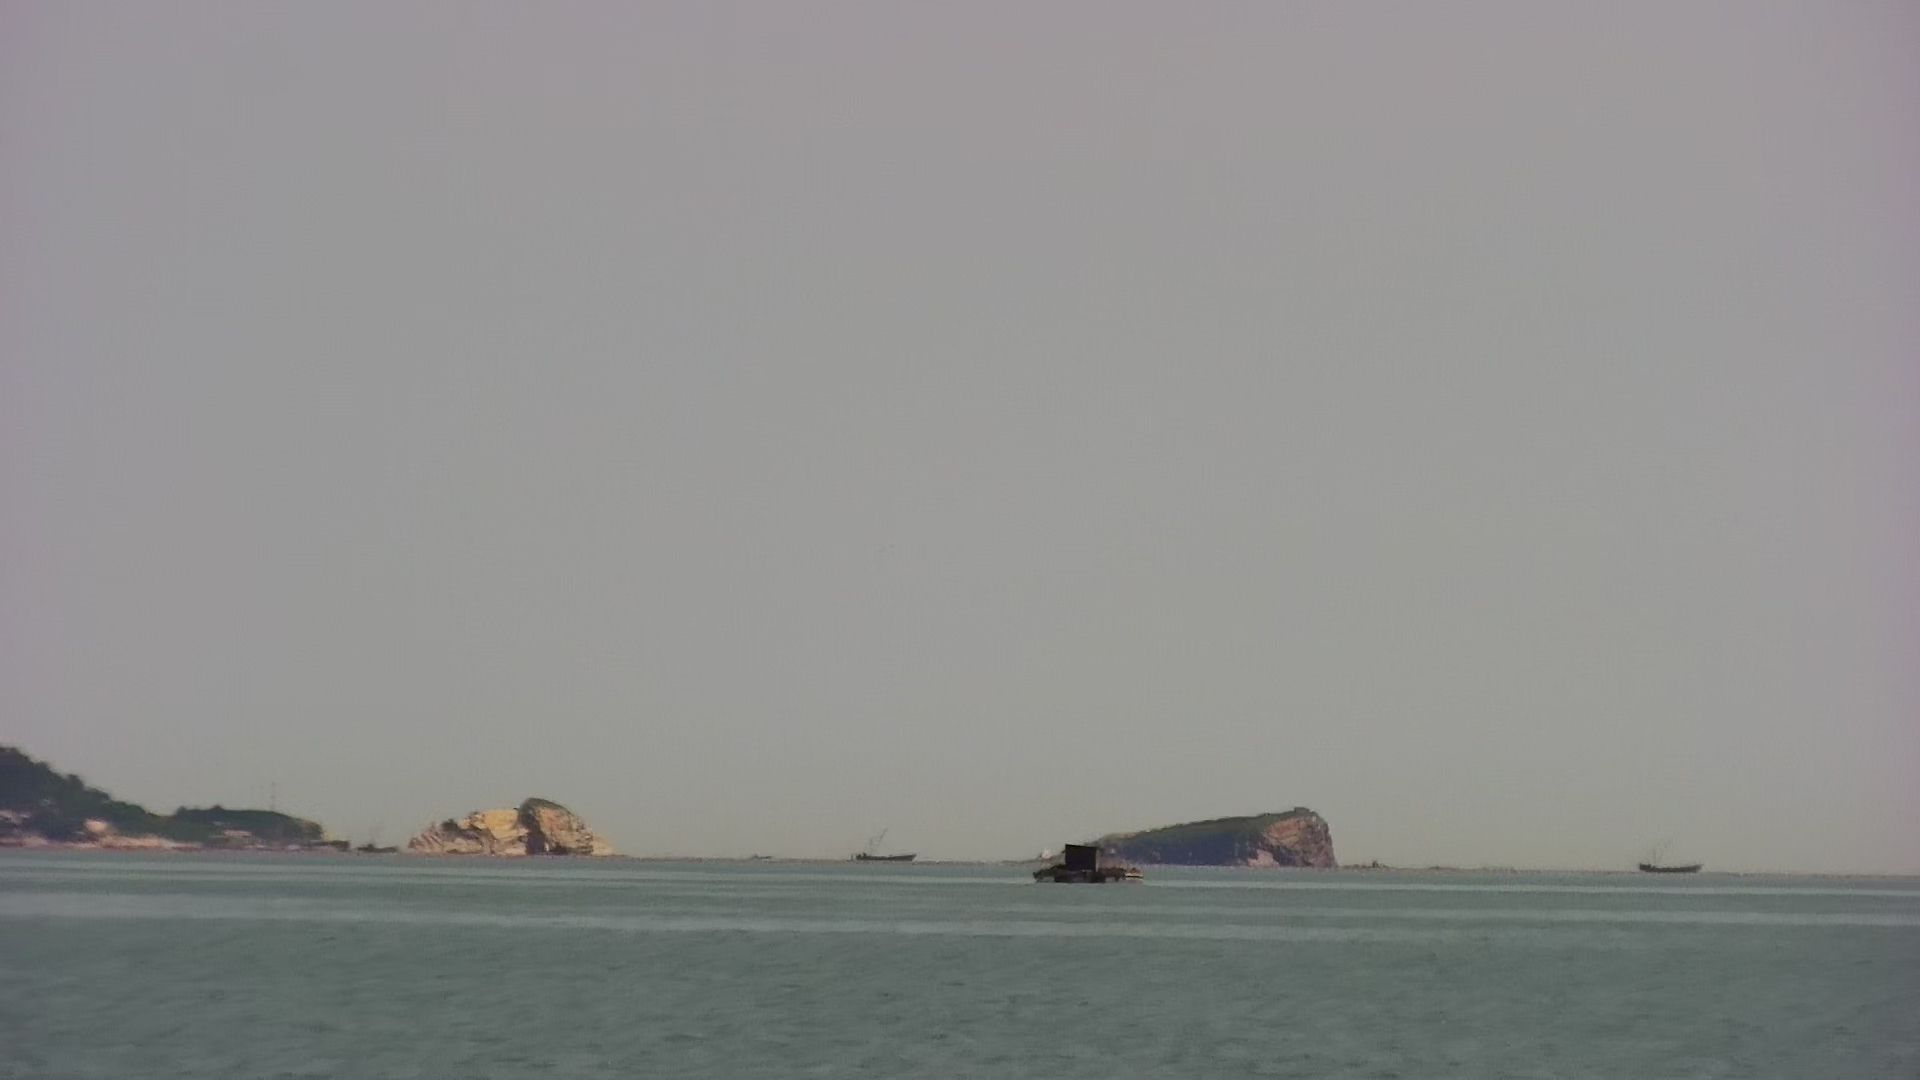platform: (1033, 839, 1153, 887)
rock: (1033, 804, 1349, 865)
